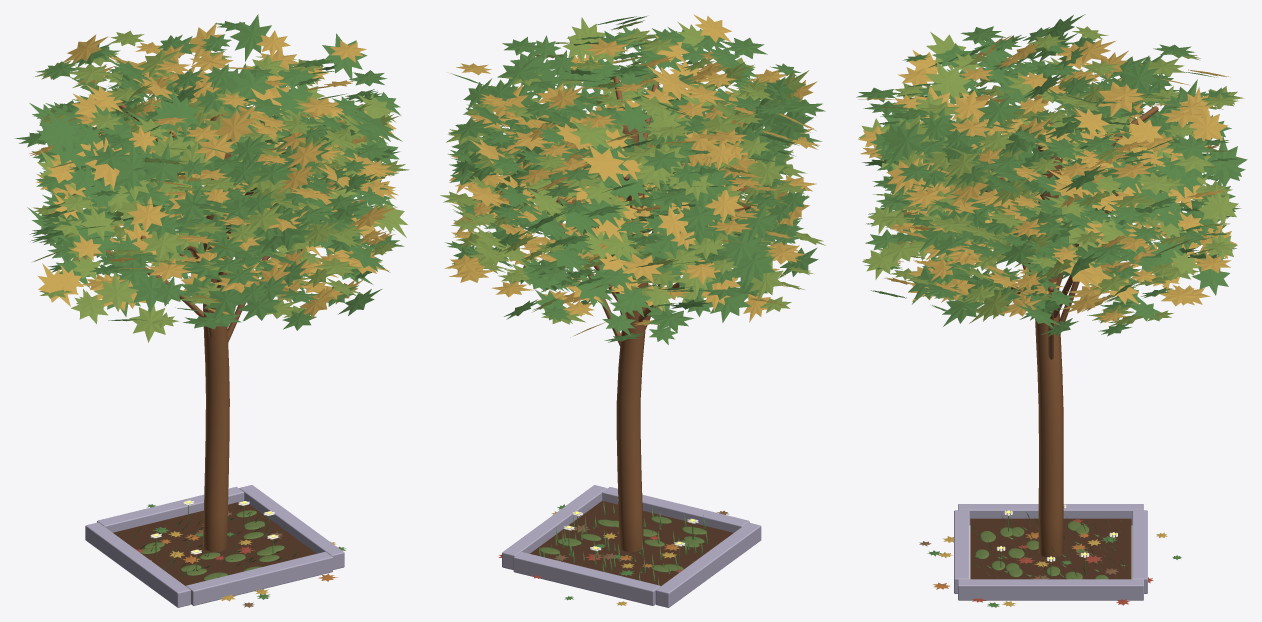
Rendered from tree_0.glb.
3 views of the same model, side by side, from view 1: azimuth 30°, elevation 25°; view 2: azimuth 150°, elevation 25°; view 3: azimuth 270°, elevation 25° (orthographic).
Parts seen in each view (by area): view 1: Textured_soil, Trunk, Pit_border.003, Pit_border, Pit_border.001, Pit_border.002, Maple_leaf.042, Maple_leaf.1046, Maple_leaf.631, Maple_leaf.1040, Maple_leaf.693, Maple_leaf.946 (+15 smaller); view 2: Textured_soil, Trunk, Pit_border.002, Pit_border, Pit_border.001, Pit_border.003, Maple_leaf.689, Maple_leaf.1178, Maple_leaf.386, Maple_leaf.496, Maple_leaf.202, Maple_leaf.259 (+18 smaller); view 3: Textured_soil, Trunk, Pit_border.001, Pit_border, Pit_border.002, Pit_border.003, Maple_leaf.962, Maple_leaf.676, Maple_leaf.526, Maple_leaf.546, Maple_leaf.734, Maple_leaf.629 (+7 smaller).
Part boxes in pixels (box(x1,y1,x2,y2)): Textured_soil: box(113, 500, 316, 585); Trunk: box(203, 114, 231, 551); Pit_border.003: box(186, 551, 332, 605); Pit_border: box(85, 522, 190, 607); Pit_border.001: box(239, 485, 344, 569); Pit_border.002: box(97, 486, 244, 532); Maple_leaf.042: box(40, 108, 79, 156); Maple_leaf.1046: box(140, 143, 184, 190); Maple_leaf.631: box(230, 14, 271, 61); Maple_leaf.1040: box(94, 272, 138, 311); Maple_leaf.693: box(214, 105, 255, 145); Maple_leaf.946: box(159, 89, 199, 134); Textured_soil: box(530, 500, 733, 585); Trunk: box(616, 125, 648, 551); Pit_border.002: box(513, 552, 660, 605); Pit_border: box(655, 522, 761, 607); Pit_border.001: box(502, 485, 607, 569); Pit_border.003: box(602, 487, 749, 532); Maple_leaf.689: box(582, 145, 625, 186); Maple_leaf.1178: box(721, 232, 762, 267); Maple_leaf.386: box(736, 205, 777, 244); Maple_leaf.496: box(570, 120, 612, 149); Maple_leaf.202: box(497, 56, 541, 87); Maple_leaf.259: box(615, 100, 651, 137); Textured_soil: box(970, 518, 1131, 579); Trunk: box(1035, 122, 1063, 557); Pit_border.001: box(958, 579, 1143, 600); Pit_border: box(958, 504, 1143, 524); Pit_border.002: box(1132, 510, 1147, 593); Pit_border.003: box(954, 510, 969, 593); Maple_leaf.962: box(884, 121, 928, 165); Maple_leaf.676: box(925, 61, 971, 99); Maple_leaf.526: box(1205, 136, 1247, 186); Maple_leaf.546: box(977, 95, 1021, 127); Maple_leaf.734: box(1119, 57, 1159, 92); Maple_leaf.629: box(1185, 108, 1228, 147).
Size of the model in its own units: 3 by 4.03 by 3.
